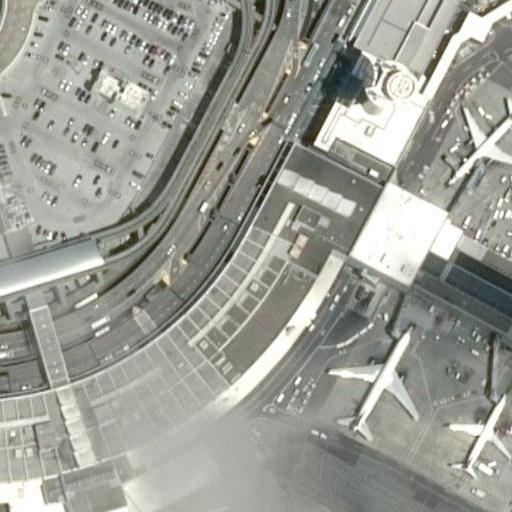Aircraft: (326, 318, 426, 441), (438, 97, 512, 186), (444, 388, 512, 481)
